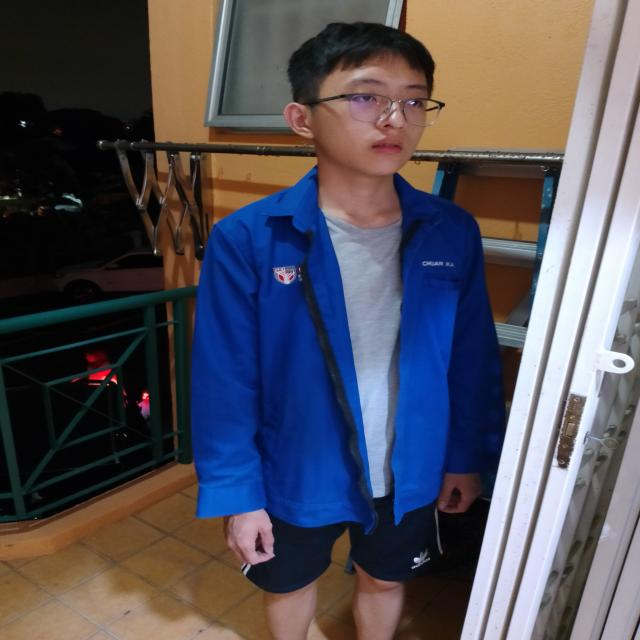person_with_labcoat: (192, 22, 504, 640)
